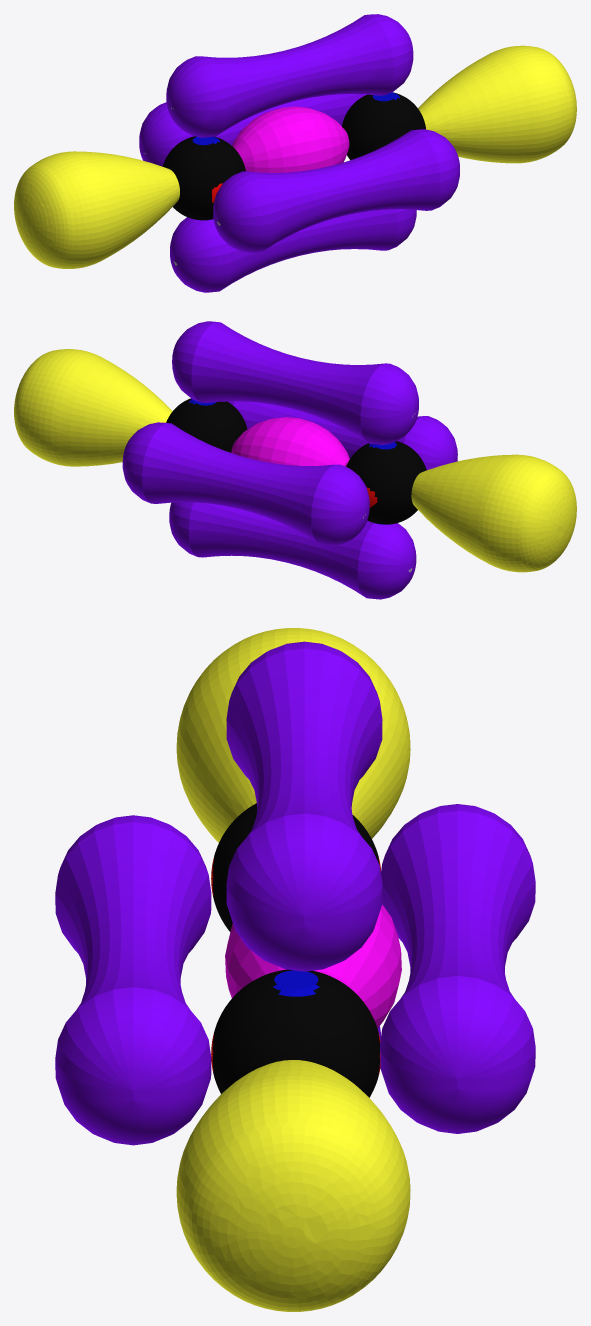
Rendered from 3Carbono_sp+sp.glb.
3 views of the same model, one above another, from view 1: azimuth 30°, elevation 25°; view 2: azimuth 150°, elevation 25°; view 3: azimuth 270°, elevation 25° (orthographic). The views are drawn at different scales.
Visible parts, largest first — view 1: root; view 2: root; view 3: root.
Boxes of the visible parts, x1,y1,x2,y2 form: root: (14,14,576,292); root: (14,321,576,599); root: (55,628,535,1311).
Size of the model in its own units: 2.39 by 0.976 by 0.9187.
